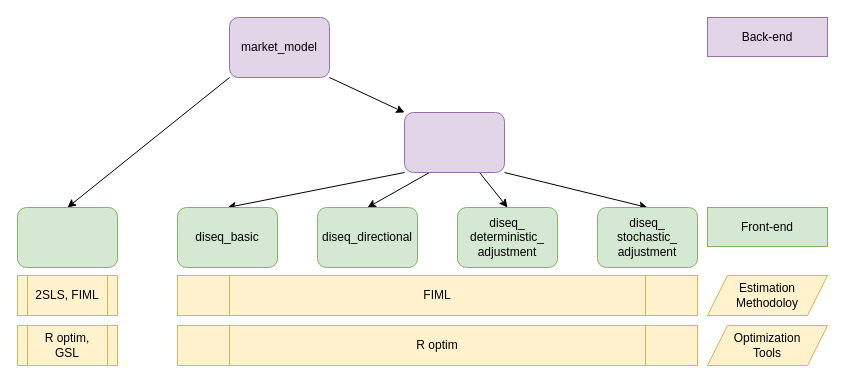
Image size: 845x383. Some labels were removed from this diagram. The shapes that lost their labels are listed below. From the top down, each one's box as (x1, y1, x2, y2) in pixels, then its label:
(404, 112, 504, 172): disequilibrium_ model
(16, 206, 118, 268): equilibrium_ model
